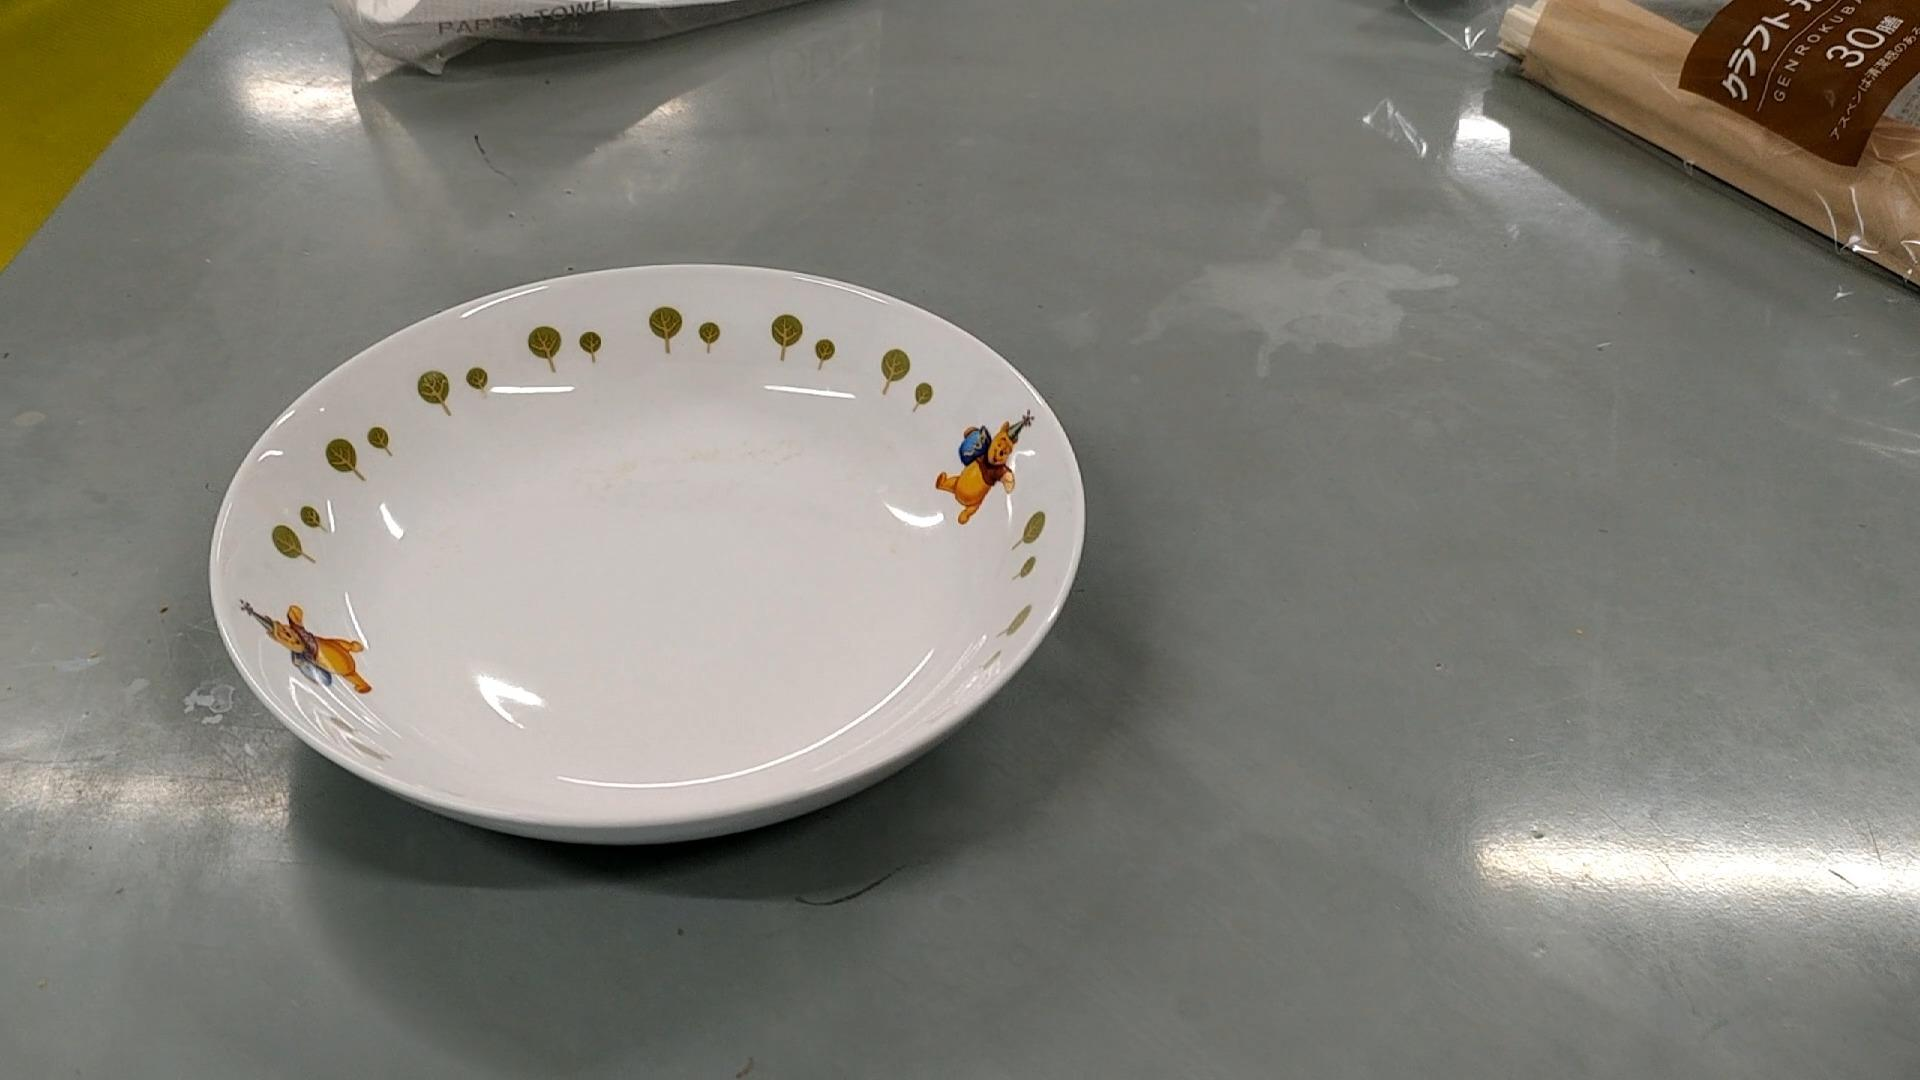plate: (214, 261, 1089, 849)
